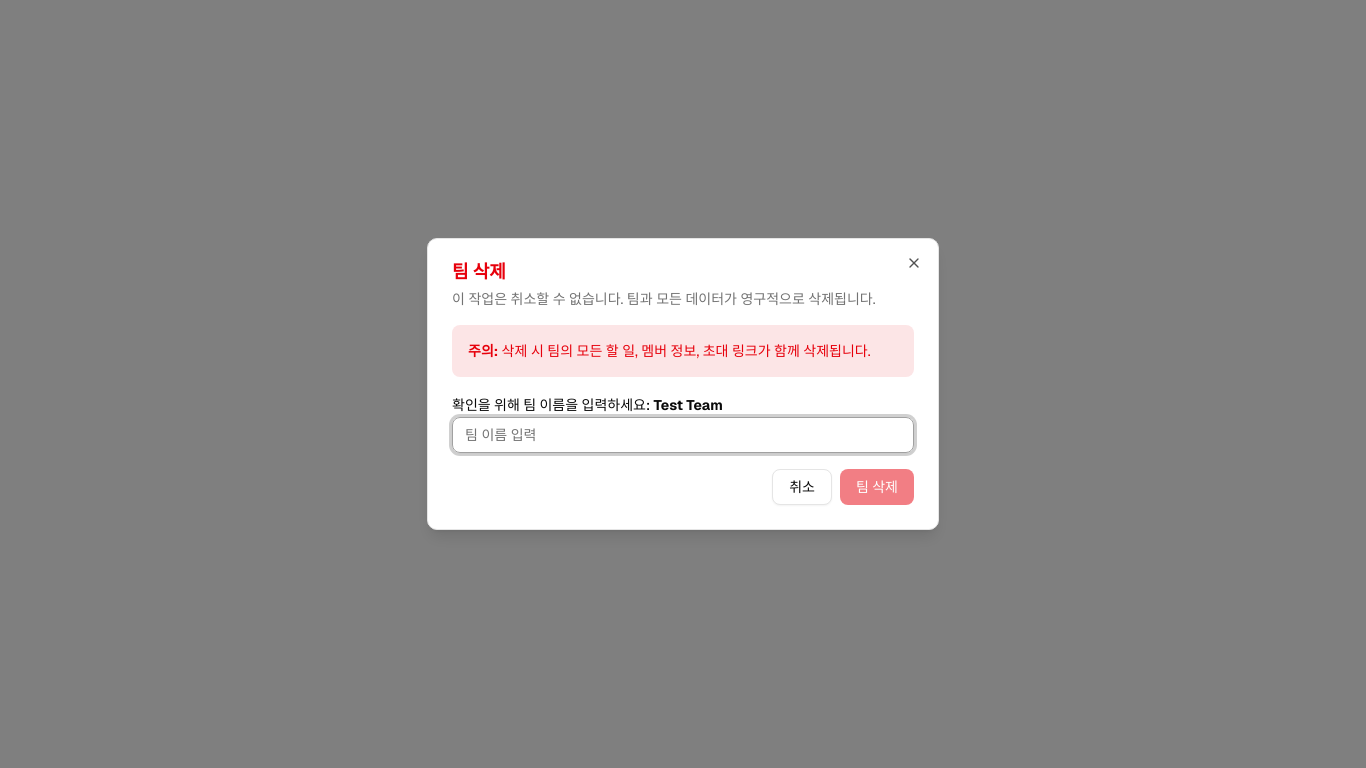
Test: DeleteTeamDialog › shows error message when delete fails
This screenshot has width=1366, height=768.
Type "Test Team" into the field with placeholder "팀 이름 입력".
click(683, 435); type("Test Team")  # box [452,417,914,453]
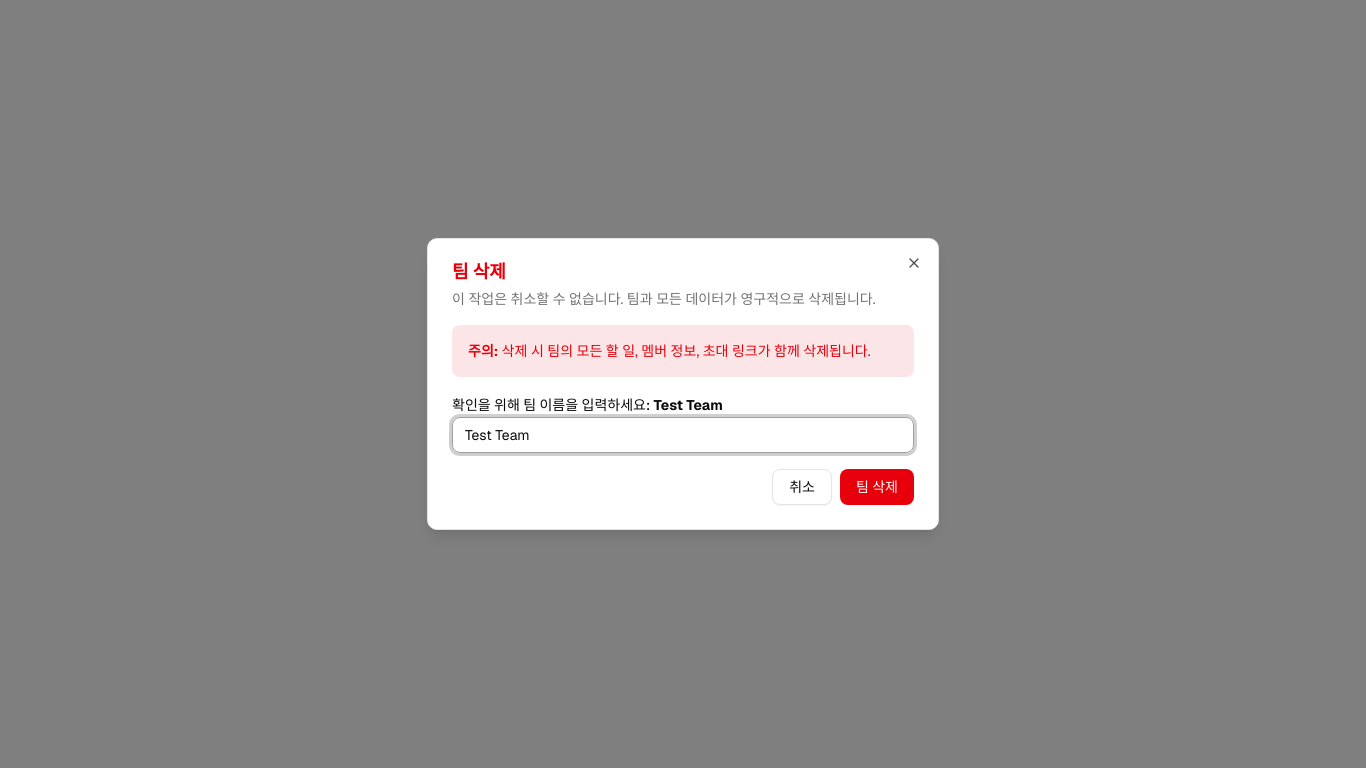
Click the button "팀 삭제".
click(877, 487)  # box [840,469,914,505]
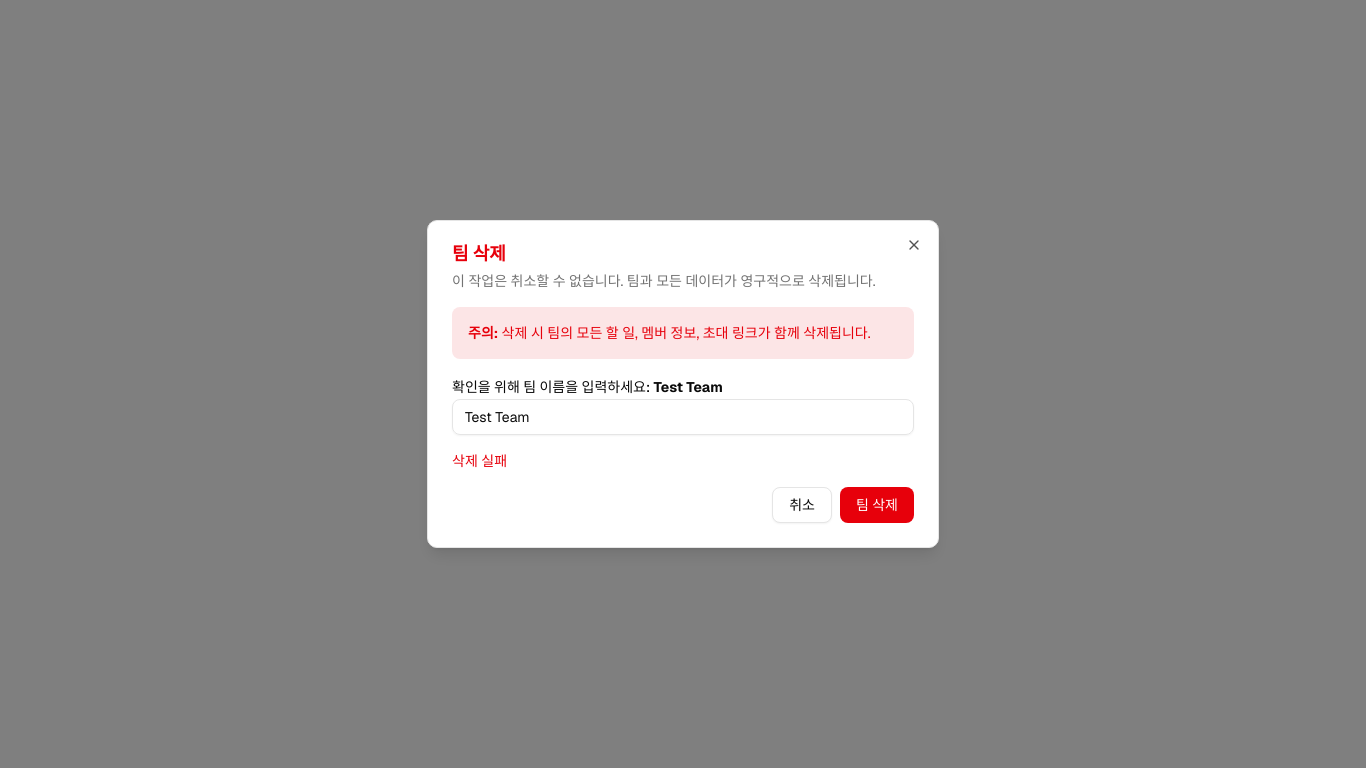
Check: the text "삭제 실패" is shown, box [452,452,507,470]
